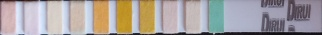color 1: (1, 3, 14, 32)
color 10: (210, 1, 222, 31)
color 2: (25, 3, 38, 33)
color 3: (48, 2, 60, 32)
color 4: (71, 2, 83, 32)
color 5: (95, 2, 106, 31)
color 6: (117, 2, 130, 32)
color 7: (141, 2, 153, 32)
color 8: (163, 3, 176, 31)
color 9: (187, 2, 199, 32)
